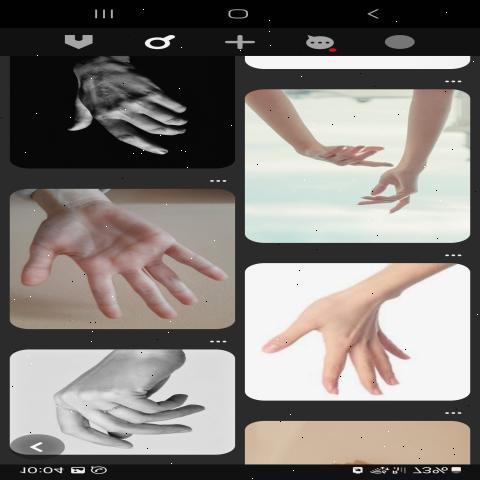Hands: (12, 189, 235, 326), (256, 258, 442, 402), (50, 352, 216, 463), (347, 168, 438, 240), (288, 129, 400, 181)
